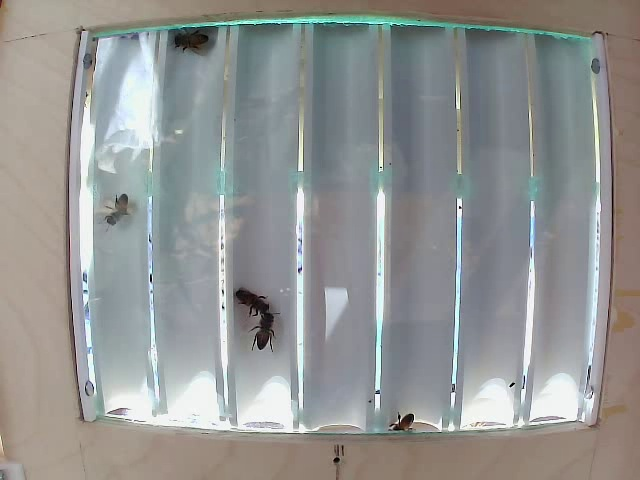bee: (99, 186, 141, 225), (251, 310, 284, 352), (228, 288, 267, 308)
